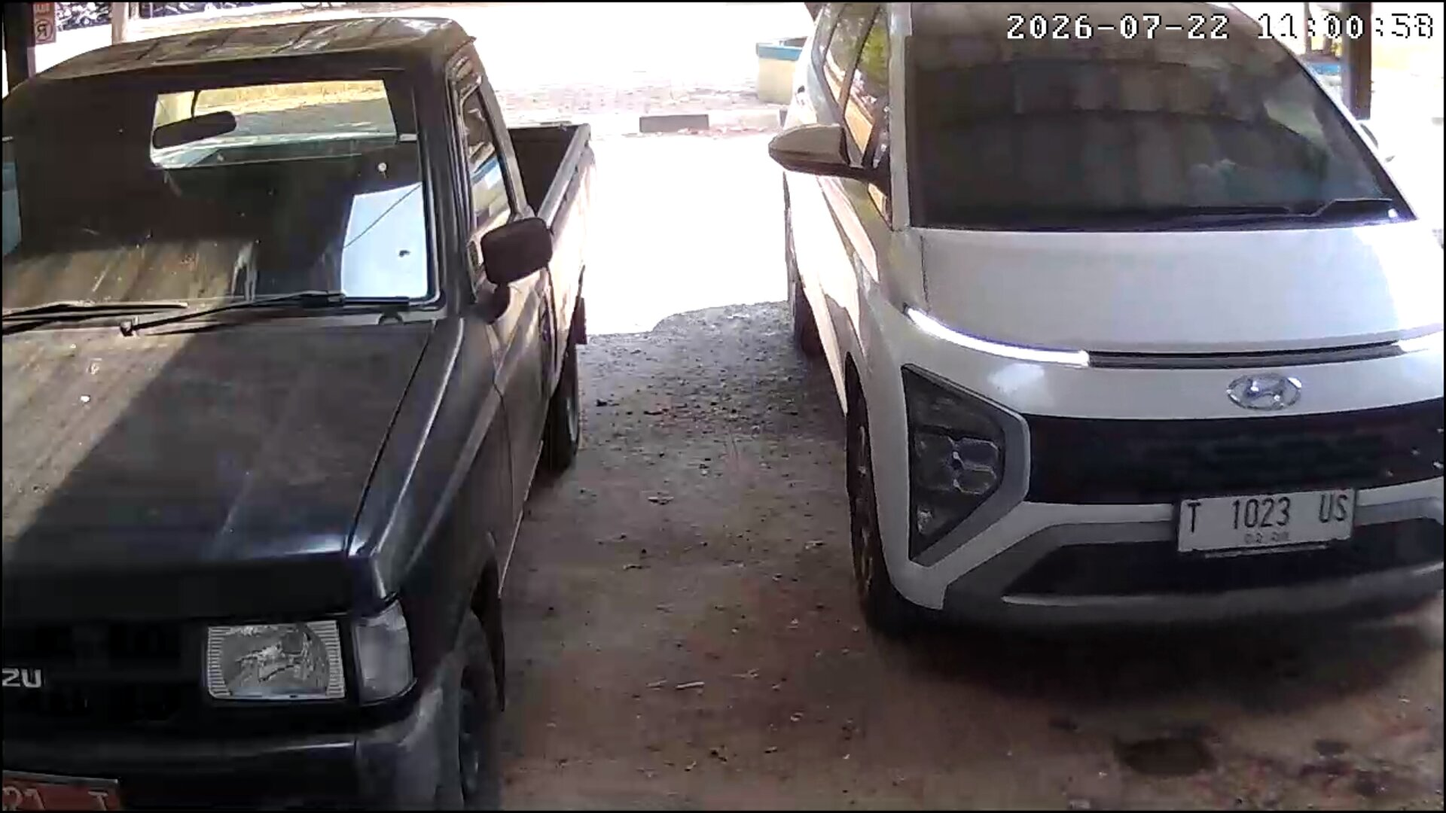plat nomor: (1174, 486, 1356, 557)
